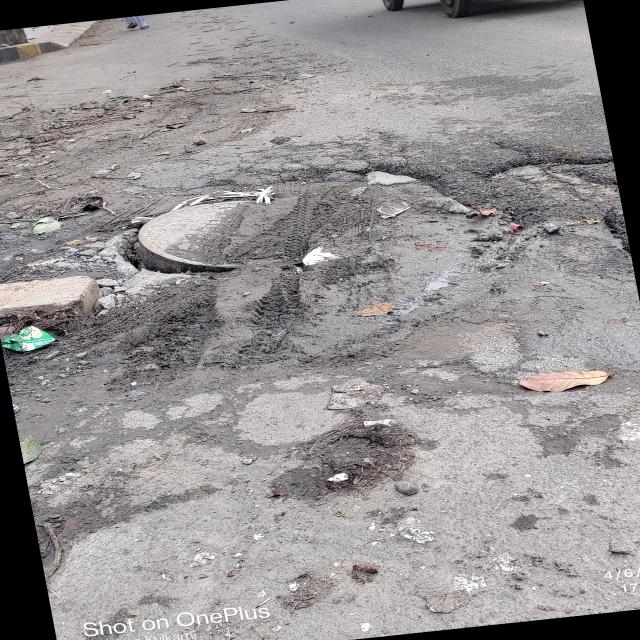potholes: (0, 138, 640, 358), (279, 435, 412, 504)
